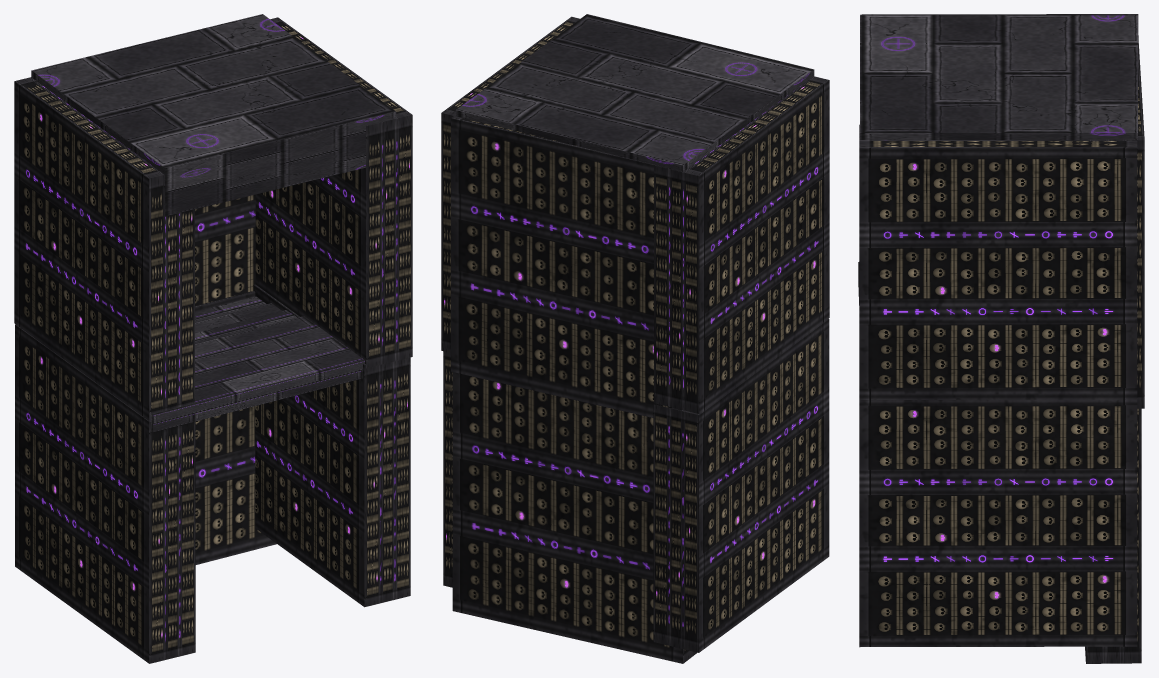
The model's file is Stairs.gltf.
3 views of the same model, side by side, from view 1: azimuth 30°, elevation 25°; view 2: azimuth 150°, elevation 25°; view 3: azimuth 270°, elevation 25° (orthographic). The views are drawn at different scales.
Visible parts, largest first — view 1: 立方体.001, 立方体.005, 立方体, 立方体.004, 立方体.002, pedestal, 立方体.007, 立方体.003; view 2: 立方体.003, 立方体.007, 立方体.001, 立方体.005, 立方体, 立方体.002, 立方体.004; view 3: 立方体.002, 立方体.004, 立方体, 立方体.003, 立方体.007, 立方体.001.
Boxes of the visible parts, x1,y1,x2,y2 form: 立方体.001: (14,77,194,420); 立方体.005: (15,324,195,663); 立方体: (31,14,396,216); 立方体.004: (253,284,410,607); 立方体.002: (255,17,412,368); pedestal: (150,296,364,432); 立方体.007: (195,291,276,564); 立方体.003: (195,194,255,305); 立方体.003: (451,115,681,417); 立方体.007: (452,372,696,663); 立方体.001: (654,76,829,413); 立方体.005: (653,319,829,652); 立方体: (455,14,814,171); 立方体.002: (441,16,579,350); 立方体.004: (443,347,452,587); 立方体.002: (859,124,1137,399); 立方体.004: (859,399,1137,647); 立方体: (860,15,1137,139); 立方体.003: (1089,32,1144,408); 立方体.007: (1085,408,1141,663); 立方体.001: (860,14,1138,37).
Bounding box in the file's own units: 11.42 × 21.03 × 10.31.
Materials: 8 (8 with a texture image).
